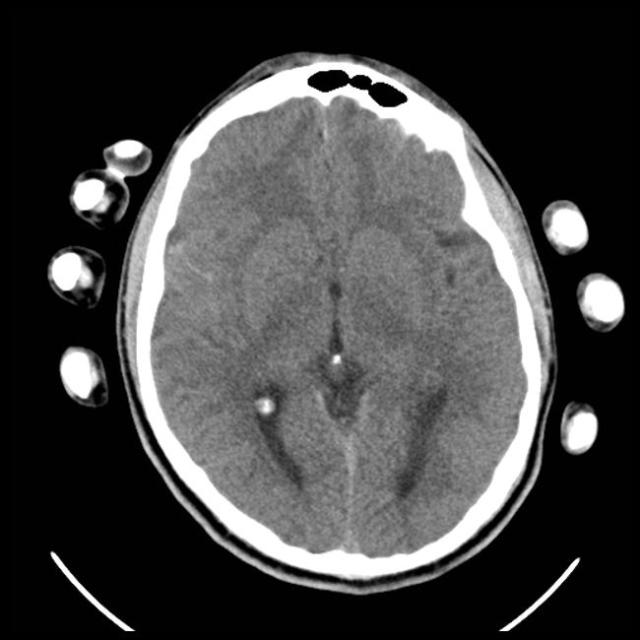lesion: (125, 65, 551, 578)
